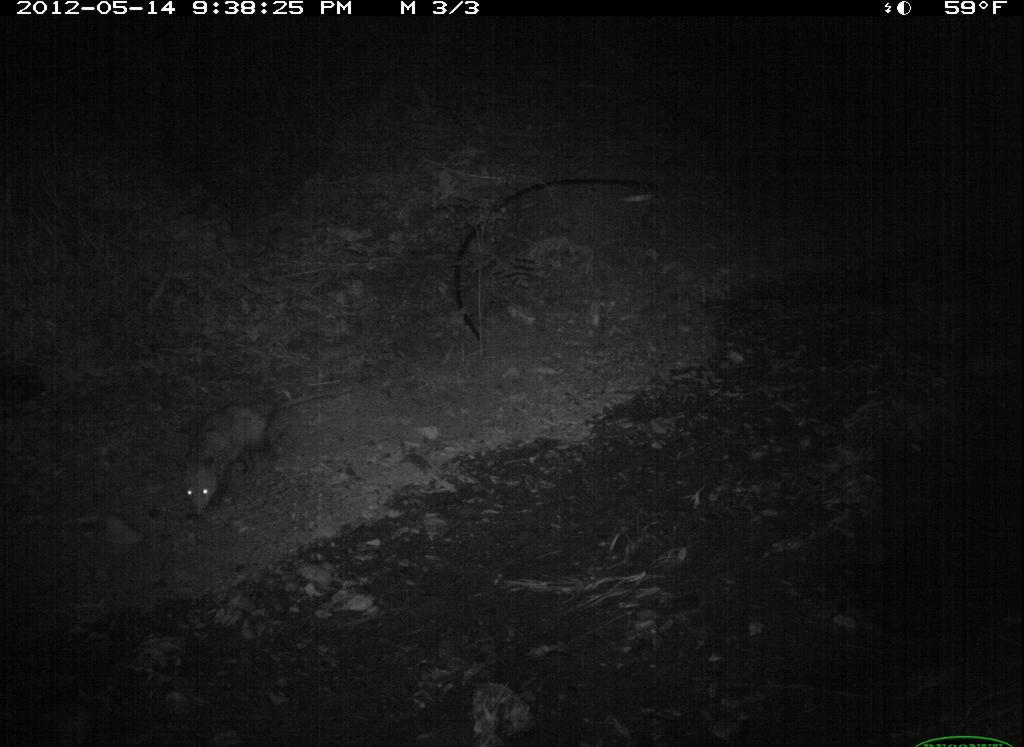opossum: (164, 373, 342, 516)
